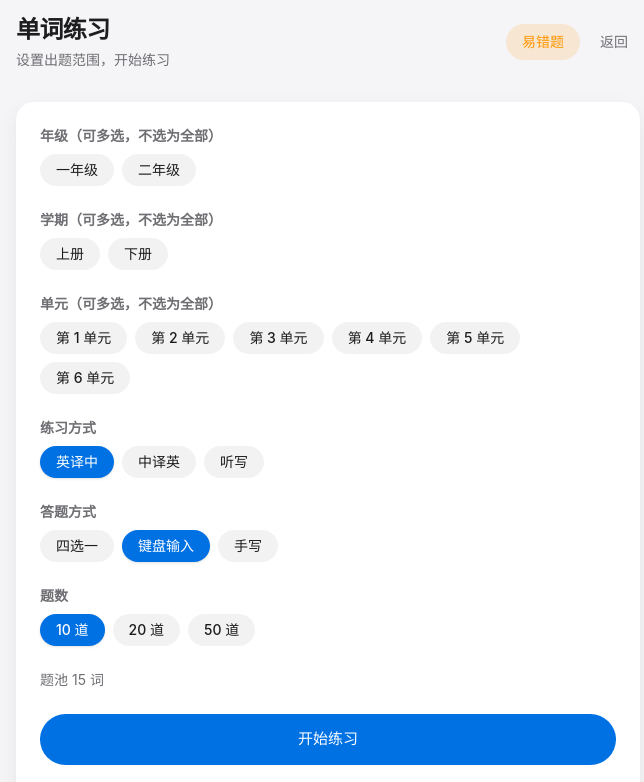
Test case: 单词配置页题池 (FR-ENG-05) › 听写模式下四选一被禁用
Click the button "听写". click: (234, 462)
box: [204,446,264,478]
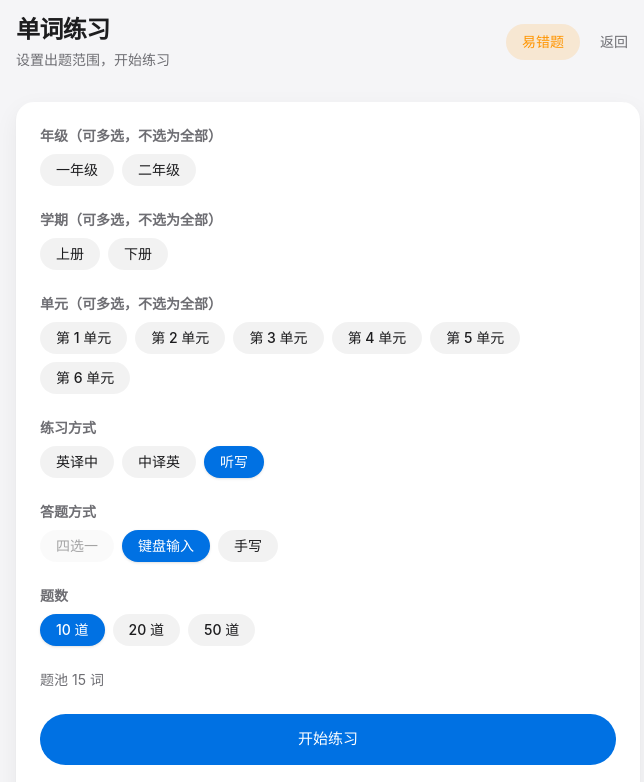
Now the button "四选一" is disabled, box [40,530,114,562]
